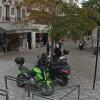Motorcycle: (8, 48, 73, 96)
